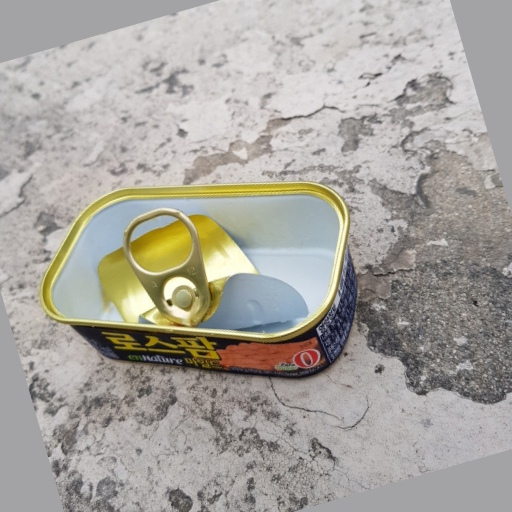Metal_2: (38, 186, 361, 379)
